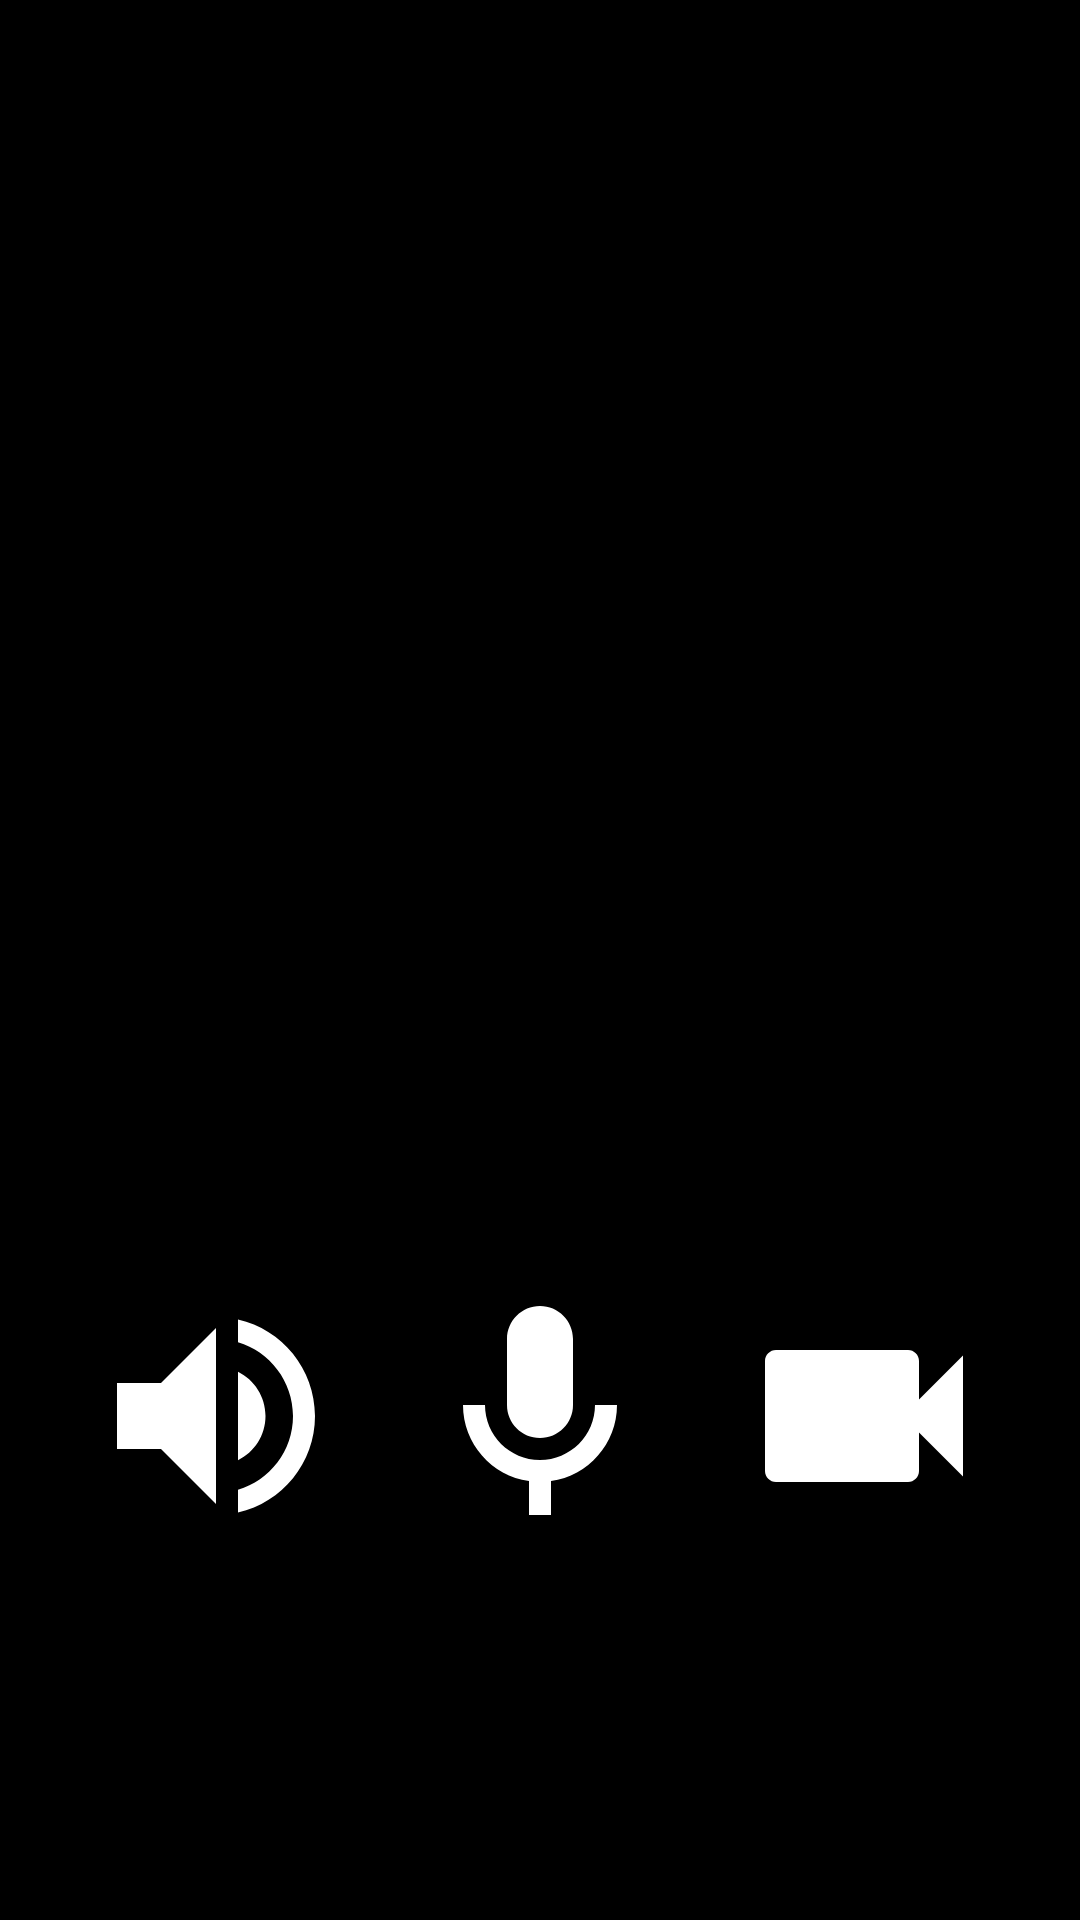

Point at icon controls on the screen. Image size 1080x1920, points as (x=x, y=y).
Camera: (x=864, y=1416)
Microphone: (x=540, y=1410)
Speaker: (x=216, y=1416)
